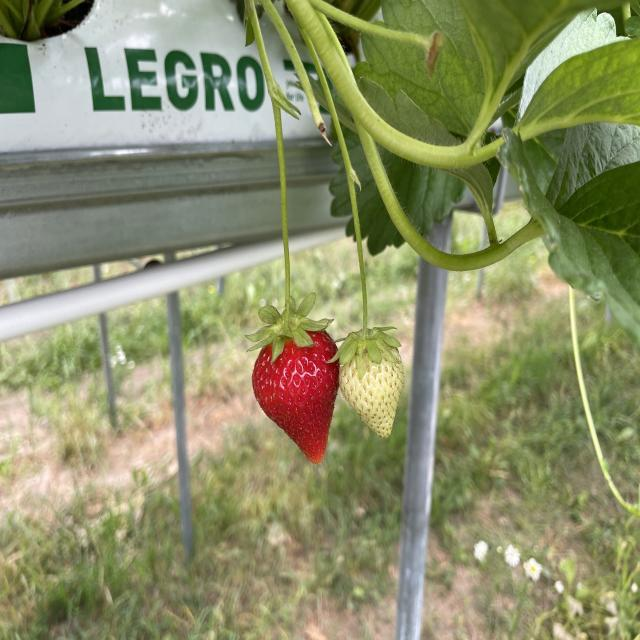stem: (247, 3, 328, 360), (327, 74, 399, 373)
strawberryNR: (340, 352, 403, 437)
strawberryR: (252, 332, 337, 460)
